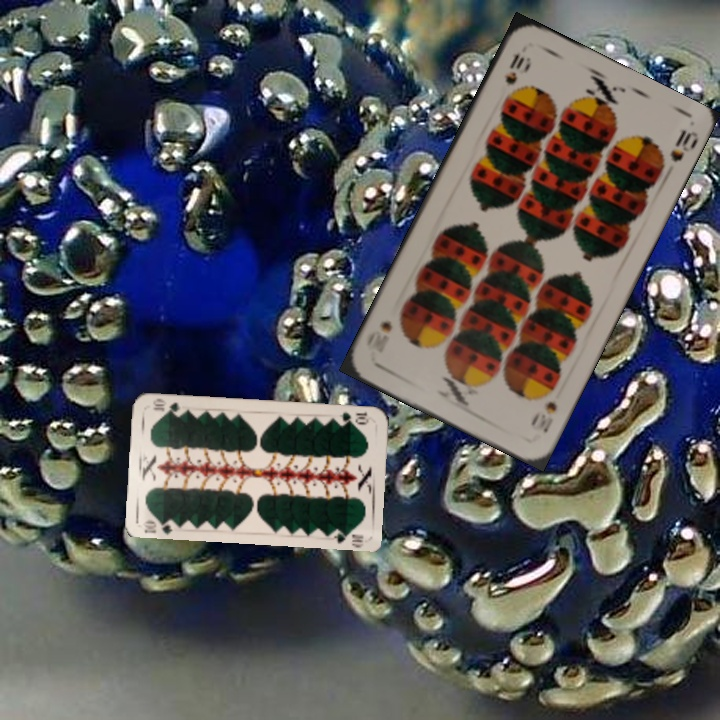G10: (139, 516, 179, 536), (338, 407, 371, 427)
S10: (500, 47, 531, 100), (527, 397, 560, 436)
